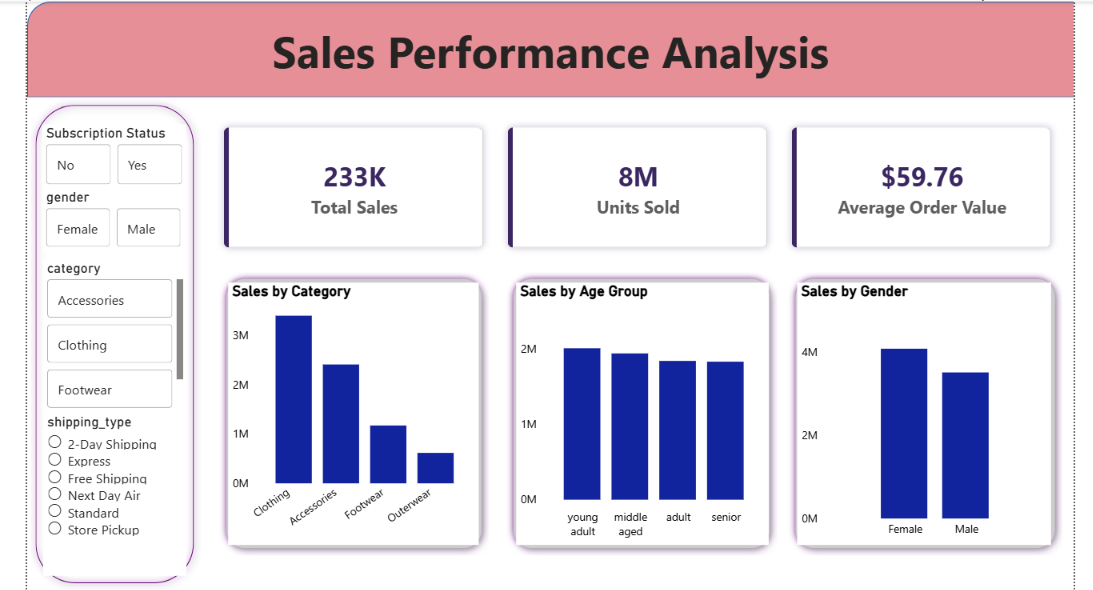

This screenshot's page, from the dashboard's own definition file:
{"tool":"powerbi","page":{"name":"Page 2","canvas":[1280,720],"ordinal":1},"visuals":[{"type":"shape","box":[0,0,1500.9,117.1],"z":0},{"type":"textbox","box":[0,18.3,1280.3,150.4],"z":1000},{"type":"cardVisual","fields":{"Data":["public customer.Total Sales","public customer.Units Sold","public customer.Average Order Value"]},"box":[212.9,126.4,1067.1,203.6],"z":2000},{"type":"shape","box":[234.2,330,330,347.3],"z":3000},{"type":"shape","box":[585.4,330,331.3,347.3],"z":4000},{"type":"shape","box":[930.1,330,335.3,347.3],"z":5000},{"type":"clusteredColumnChart","title":"Sales by Category","fields":{"Y":["Sum(public customer.customer_id)"],"Category":["public customer.category"]},"box":[246.2,343.3,306,320.7],"z":6000},{"type":"clusteredColumnChart","title":"Sales by Age Group","fields":{"Y":["Sum(public customer.customer_id)"],"Category":["public customer.age_group"]},"box":[597.4,343.3,308.7,320.7],"z":7000},{"type":"clusteredColumnChart","title":"Sales by Gender","fields":{"Y":["Sum(public customer.customer_id)"],"Category":["public customer.gender"]},"box":[942,343.3,310,320.7],"z":8000},{"type":"shape","box":[1.3,117.1,211.6,602.7],"z":9000},{"type":"advancedSlicerVisual","fields":{"Values":["public customer.subscription_status"]},"box":[18.3,150.4,176.1,78.3],"z":10000},{"type":"advancedSlicerVisual","fields":{"Values":["public customer.gender"]},"box":[18.6,228.9,175.6,77.2],"z":11000},{"type":"advancedSlicerVisual","fields":{"Values":["public customer.category"]},"box":[19.6,315.5,176.1,188.3],"z":12000},{"type":"listSlicer","fields":{"Values":["public customer.shipping_type"]},"box":[19.6,503.8,174.9,198.1],"z":13000}]}

Visuals, with their boxes on the page's 1280x720 design canvas (x1, y1, x2, y2). These are canvas units, not pixel positions in the 1093x590 screenshot, which may show the page scaled, cropped or inside an application window:
shape: (0, 0, 1501, 117)
textbox: (0, 18, 1280, 169)
cardVisual - public customer.Total Sales x public customer.Units Sold: (213, 126, 1280, 330)
shape: (234, 330, 564, 677)
shape: (585, 330, 917, 677)
shape: (930, 330, 1265, 677)
"Sales by Category" clusteredColumnChart: (246, 343, 552, 664)
"Sales by Age Group" clusteredColumnChart: (597, 343, 906, 664)
"Sales by Gender" clusteredColumnChart: (942, 343, 1252, 664)
shape: (1, 117, 213, 720)
advancedSlicerVisual - public customer.subscription_status: (18, 150, 194, 229)
advancedSlicerVisual - public customer.gender: (19, 229, 194, 306)
advancedSlicerVisual - public customer.category: (20, 316, 196, 504)
listSlicer - public customer.shipping_type: (20, 504, 194, 702)
